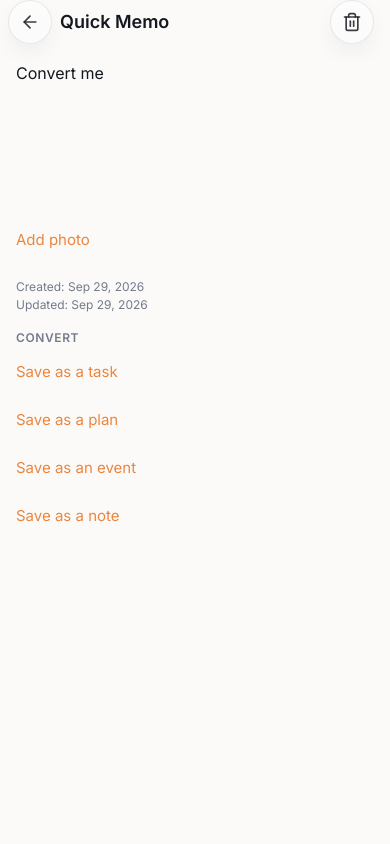
it: Phase 11 Quick Memo conversion UI › shows Task / Plan / Event convert actions and keeps the editor
The width and height of the screenshot is (390, 844).
Expected: the button with test id "quick-memo-convert-task" is shown, [16, 350, 374, 394]
Expected: the button with test id "quick-memo-convert-event" is shown, [16, 446, 374, 490]
Click the button with test id "quick-memo-convert-plan" at [67, 419], box [16, 398, 374, 442]
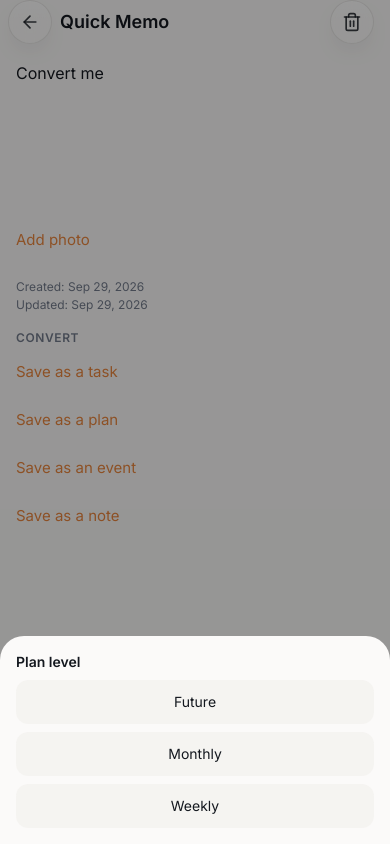
Expected: the text box with test id "quick-memo-editor" holds "Convert me", [16, 52, 374, 212]
Result: the button with test id "quick-memo-plan-level-future" is shown at [16, 680, 374, 724]
